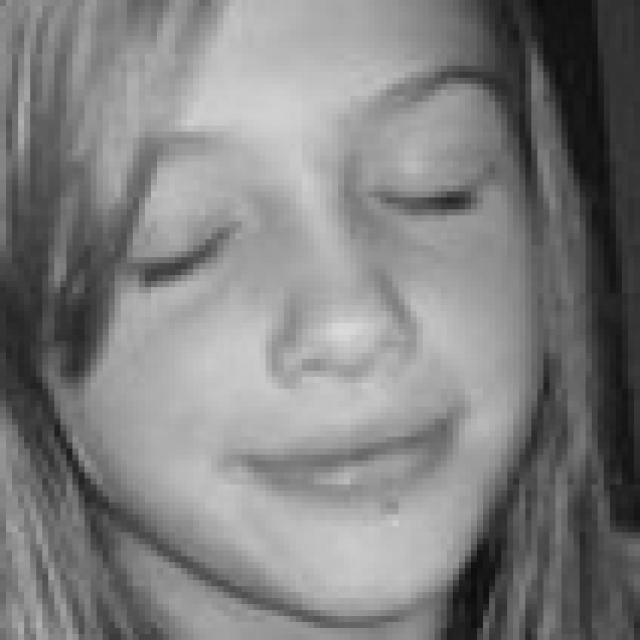real: (46, 0, 542, 615), (109, 163, 503, 296)
